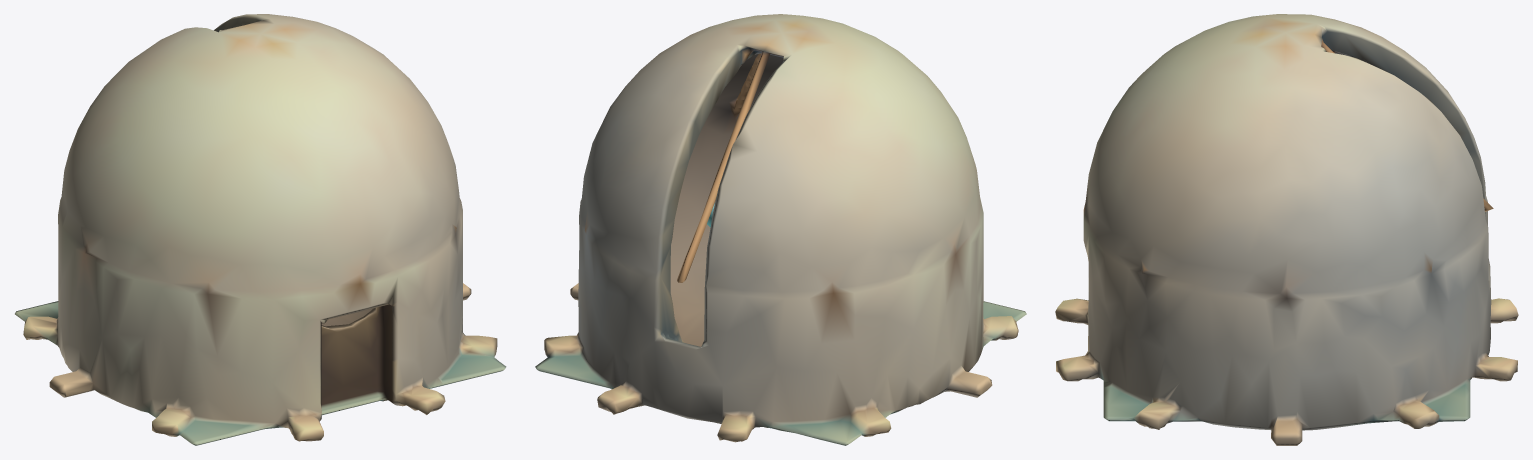
Rendered from env_st_dome.glb.
The picture shows the model from 3 angles, left to right: view 1: azimuth 30°, elevation 25°; view 2: azimuth 150°, elevation 25°; view 3: azimuth 270°, elevation 25°; orthographic projection.
Parts seen in each view (by area): view 1: geometry_0; view 2: geometry_0; view 3: geometry_0.
Part boxes in pixels (box(x1,y1,x2,y2)): geometry_0: box(15, 14, 506, 445); geometry_0: box(535, 14, 1026, 445); geometry_0: box(1055, 14, 1518, 445).
Size of the model in its own units: 9.41 by 6.84 by 9.1.
